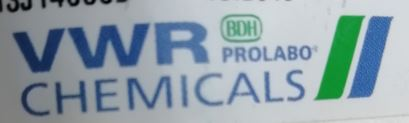VWR: (10, 10, 397, 119)
